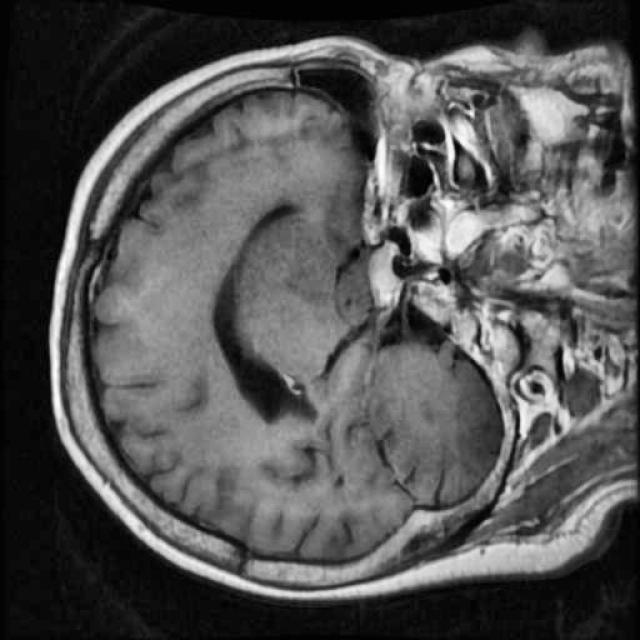Tumor: (360, 231, 408, 316)
